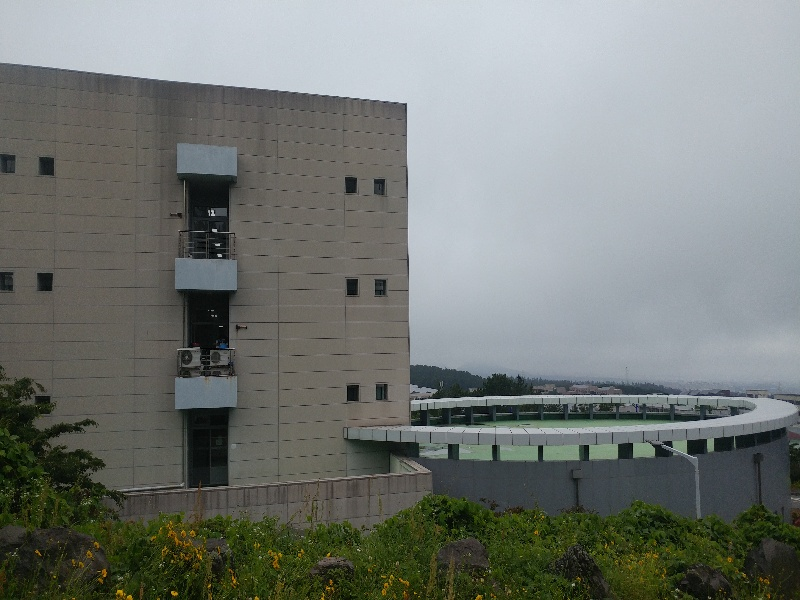College of Marine Science: (7, 65, 411, 523), (419, 404, 788, 506)
